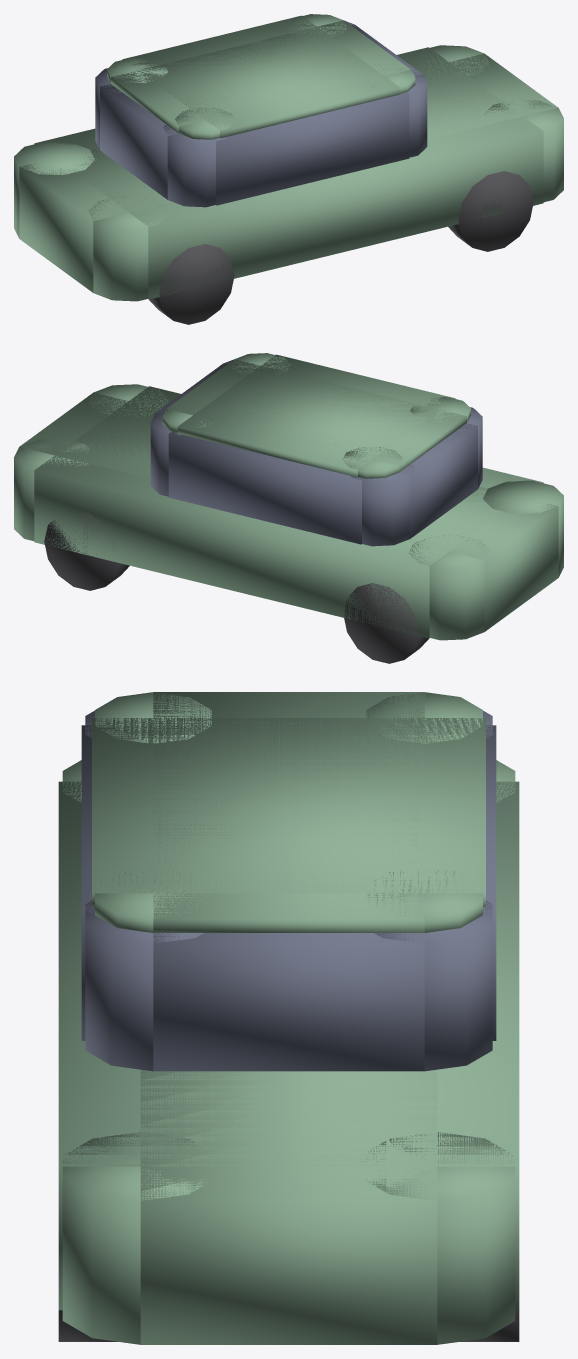
Rendered from car_green.glb.
The picture shows the model from 3 angles, top to bottom: view 1: azimuth 30°, elevation 25°; view 2: azimuth 150°, elevation 25°; view 3: azimuth 270°, elevation 25°; orthographic projection. The views are drawn at different scales.
Parts seen in each view (by area): view 1: car_green_4, car_green_6, car_green_5, car_green_3, car_green_1; view 2: car_green_4, car_green_6, car_green_5, car_green_2, car_green_0; view 3: car_green_4, car_green_6, car_green_5.
Part boxes in pixels (x1,y1,x2,y2): car_green_4: [14, 45, 563, 301]; car_green_6: [107, 14, 415, 139]; car_green_5: [95, 20, 427, 207]; car_green_3: [148, 244, 234, 324]; car_green_1: [448, 171, 533, 251]; car_green_4: [14, 384, 563, 640]; car_green_6: [162, 353, 470, 478]; car_green_5: [150, 359, 482, 546]; car_green_2: [343, 583, 429, 663]; car_green_0: [44, 512, 129, 590]; car_green_4: [58, 760, 519, 1344]; car_green_6: [92, 692, 485, 932]; car_green_5: [81, 710, 496, 1071].
Bounding box in the file's own units: 4.2 × 1.53 × 1.8.
